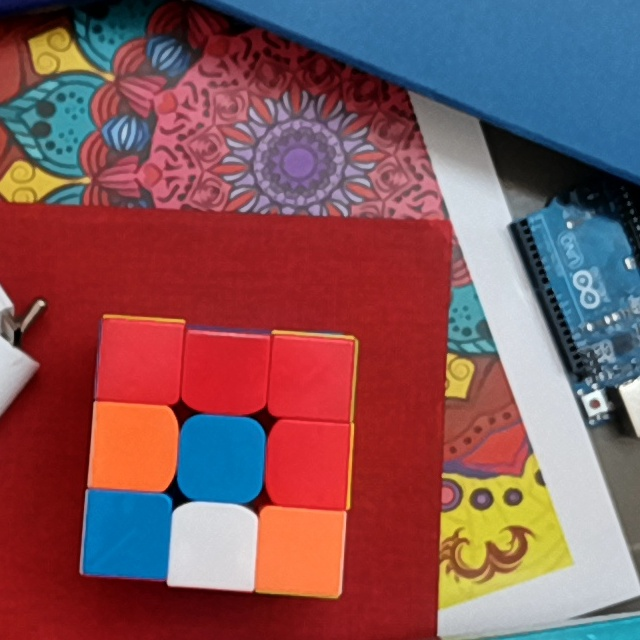tile: (97, 405, 167, 484), (88, 497, 162, 569), (263, 517, 335, 588), (277, 429, 345, 501), (105, 325, 175, 394), (278, 342, 348, 410), (191, 335, 259, 404), (179, 513, 248, 581), (188, 424, 255, 488)
